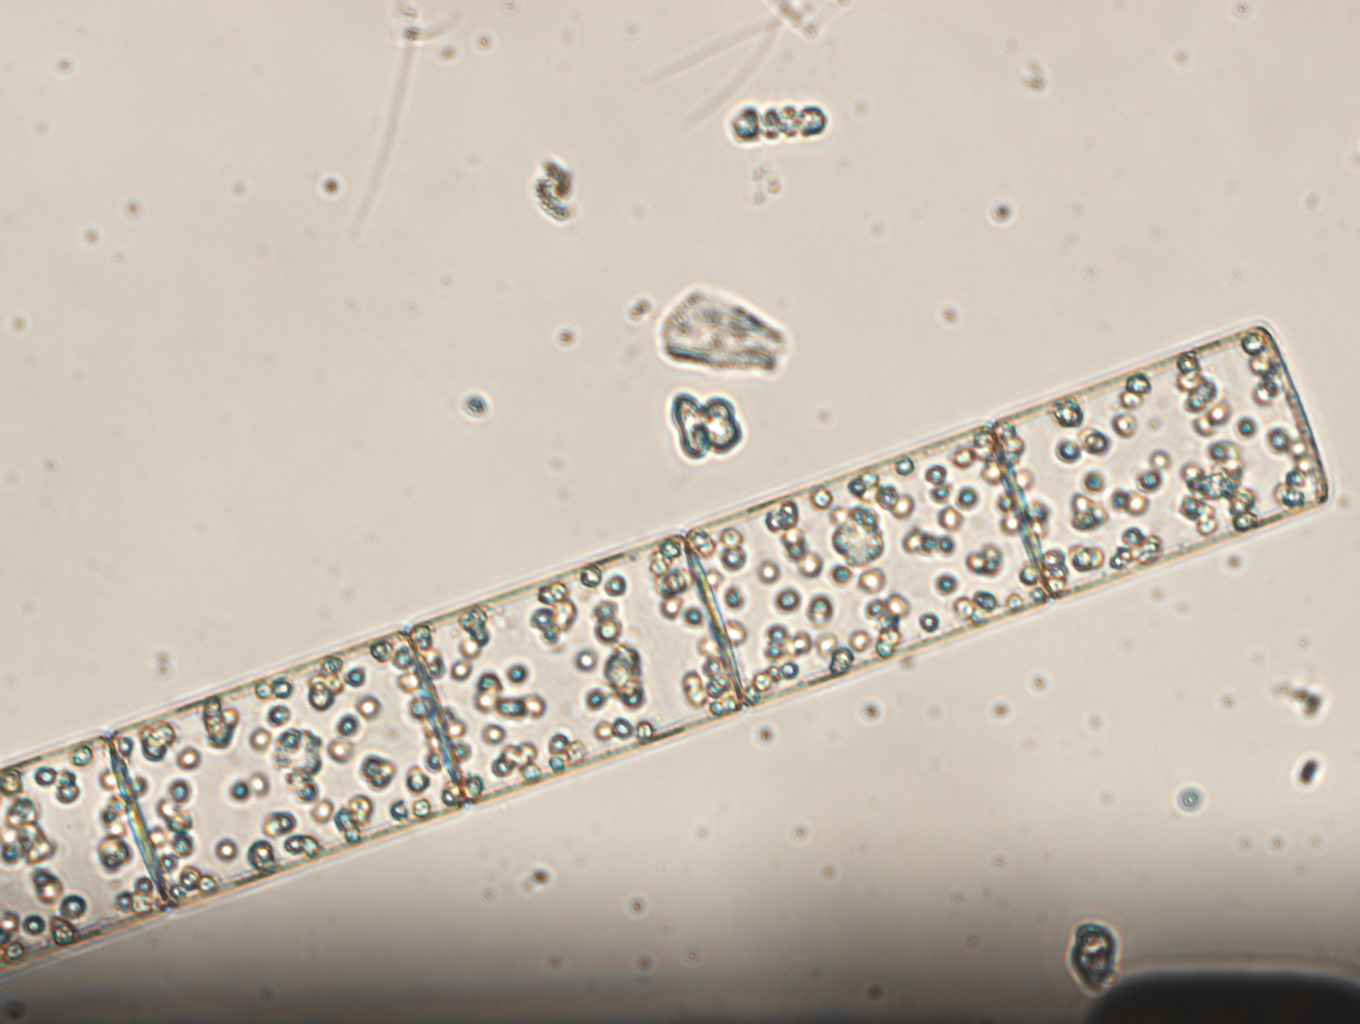guinardia flaccida: (1, 321, 1333, 970)
